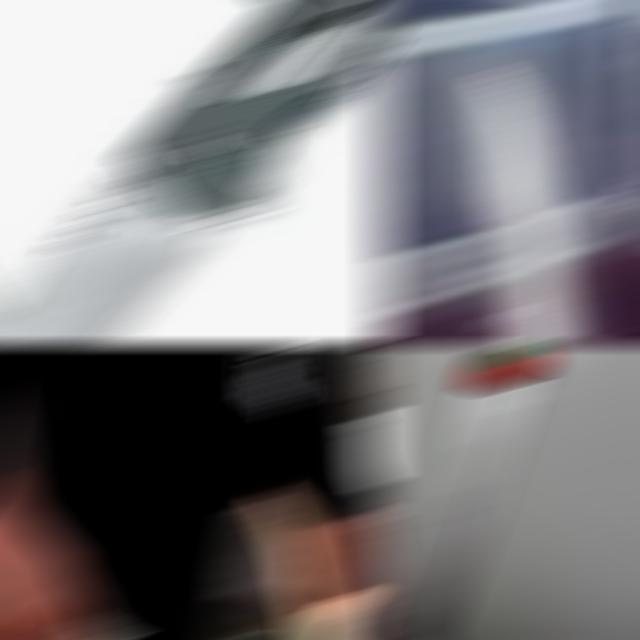Knife: (0, 2, 394, 342), (391, 348, 547, 638), (477, 71, 612, 342), (64, 614, 222, 638)
Knife_Handle: (0, 548, 222, 638)
